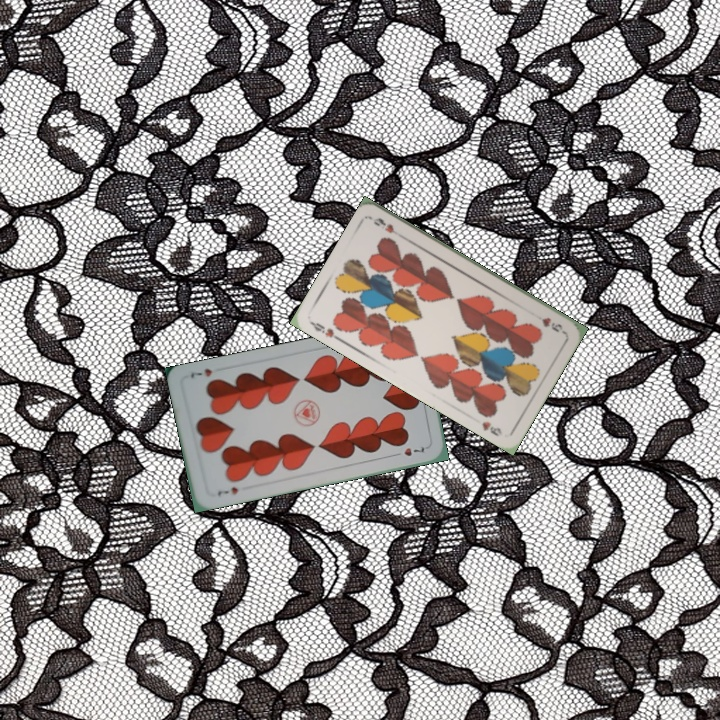H7: (214, 483, 240, 498)
H9: (306, 318, 344, 344), (538, 313, 567, 336)
